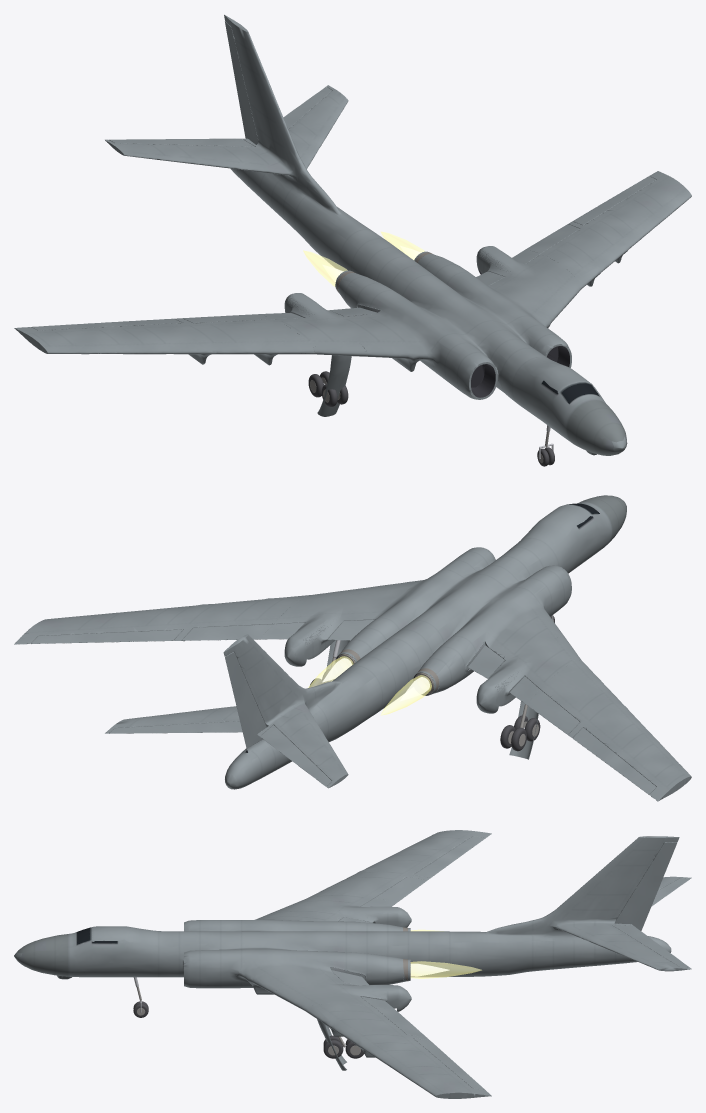
3 renders of one model, top to bottom at view 1: azimuth 30°, elevation 25°; view 2: azimuth 150°, elevation 25°; view 3: azimuth 270°, elevation 25°, orthographic. The views are drawn at different scales.
Visible parts, largest first — view 1: fsim:section:right-wing, fsim:section:centre, fsim:section:left-wing, fsim:section:tail, fsim:section:nose, fsim:flaps (×2), fsim:aileron (×2), fsim:rudder, Right Main Gear door, fsim:elevator; view 2: fsim:section:centre, fsim:section:right-wing, fsim:section:left-wing, fsim:section:tail, fsim:section:nose, fsim:flaps (×4), fsim:aileron (×2), fsim:elevator (×2), fsim:rudder, fsim:afterburner:1, fsim:afterburner:0, fsim:wheel:2:0.525; view 3: fsim:section:centre, fsim:section:left-wing, fsim:section:tail, fsim:section:right-wing, fsim:section:nose, fsim:rudder, fsim:flaps (×2), fsim:aileron (×2), fsim:afterburner:0, fsim:elevator.
Part boxes in pixels (bbox=[...]): fsim:section:right-wing: bbox=[14, 286, 477, 380]; fsim:section:centre: bbox=[188, 184, 621, 399]; fsim:section:left-wing: bbox=[442, 171, 691, 339]; fsim:section:tail: bbox=[105, 14, 348, 242]; fsim:section:nose: bbox=[499, 339, 627, 455]; fsim:flaps (×2): bbox=[182, 224, 579, 322]; fsim:aileron (×2): bbox=[31, 176, 656, 330]; fsim:rudder: bbox=[225, 21, 258, 144]; Right Main Gear door: bbox=[317, 355, 351, 416]; fsim:elevator: bbox=[109, 138, 254, 146]; fsim:section:centre: bbox=[183, 540, 571, 741]; fsim:section:right-wing: bbox=[445, 573, 691, 801]; fsim:section:left-wing: bbox=[14, 555, 480, 651]; fsim:section:tail: bbox=[105, 634, 348, 789]; fsim:section:nose: bbox=[506, 495, 626, 573]; fsim:flaps (×4): bbox=[182, 619, 579, 734]; fsim:aileron (×2): bbox=[31, 629, 656, 794]; fsim:elevator (×2): bbox=[109, 721, 331, 786]; fsim:rudder: bbox=[225, 652, 266, 748]; fsim:afterburner:1: bbox=[380, 675, 431, 715]; fsim:afterburner:0: bbox=[308, 656, 353, 687]; fsim:wheel:2:0.525: bbox=[500, 725, 526, 751]; fsim:section:centre: bbox=[163, 906, 529, 1057]; fsim:section:left-wing: bbox=[207, 948, 491, 1098]; fsim:section:tail: bbox=[506, 836, 691, 974]; fsim:section:right-wing: bbox=[208, 830, 491, 931]; fsim:section:nose: bbox=[14, 926, 192, 979]; fsim:rudder: bbox=[614, 842, 677, 930]; fsim:flaps (×2): bbox=[360, 877, 426, 1037]; fsim:aileron (×2): bbox=[413, 836, 485, 1090]; fsim:afterburner:0: bbox=[410, 961, 481, 978]; fsim:elevator: bbox=[612, 924, 689, 967].
Bounding box in the file's own units: 32.91 × 11.24 × 35.89.
11 materials, 1 textured.
